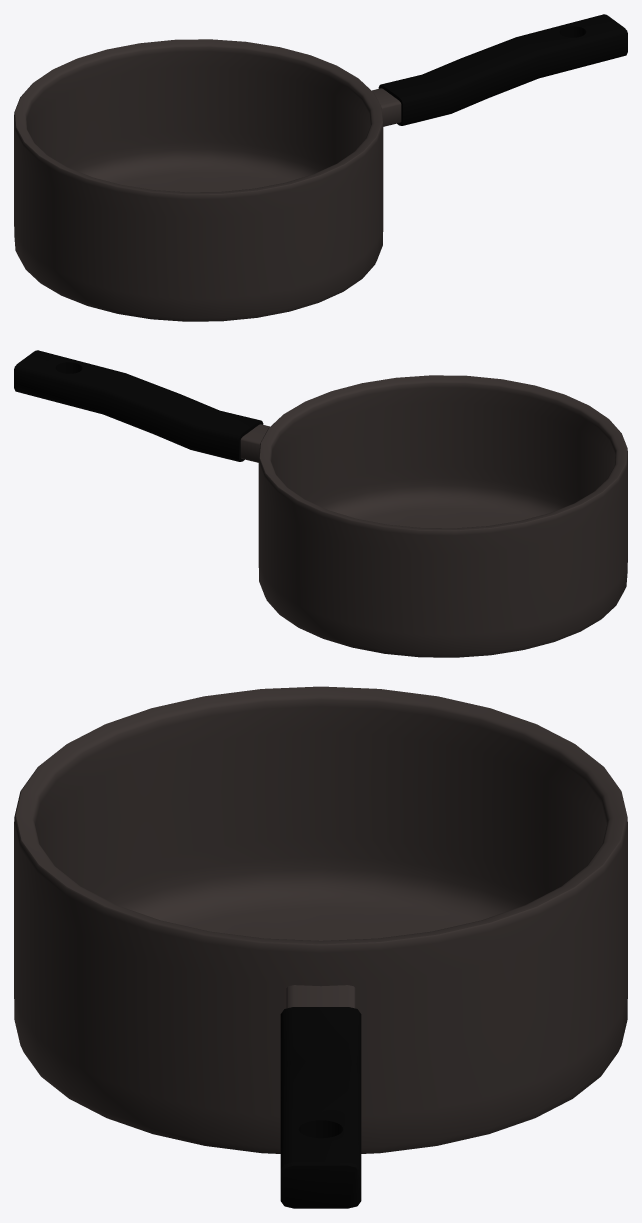
File: HP_sauce_pot2.glb
The picture shows the model from 3 angles, top to bottom: view 1: azimuth 30°, elevation 25°; view 2: azimuth 150°, elevation 25°; view 3: azimuth 270°, elevation 25°; orthographic projection. The views are drawn at different scales.
Parts seen in each view (by area): view 1: HP_sauce_pot2.001; view 2: HP_sauce_pot2.001; view 3: HP_sauce_pot2.001.
Part boxes in pixels (x1,y1,x2,y2): HP_sauce_pot2.001: (14,14,627,321); HP_sauce_pot2.001: (14,350,627,657); HP_sauce_pot2.001: (14,686,627,1208).
Size of the model in its own units: 0.4726 by 0.0999 by 0.2619.
1 material, 1 textured.
